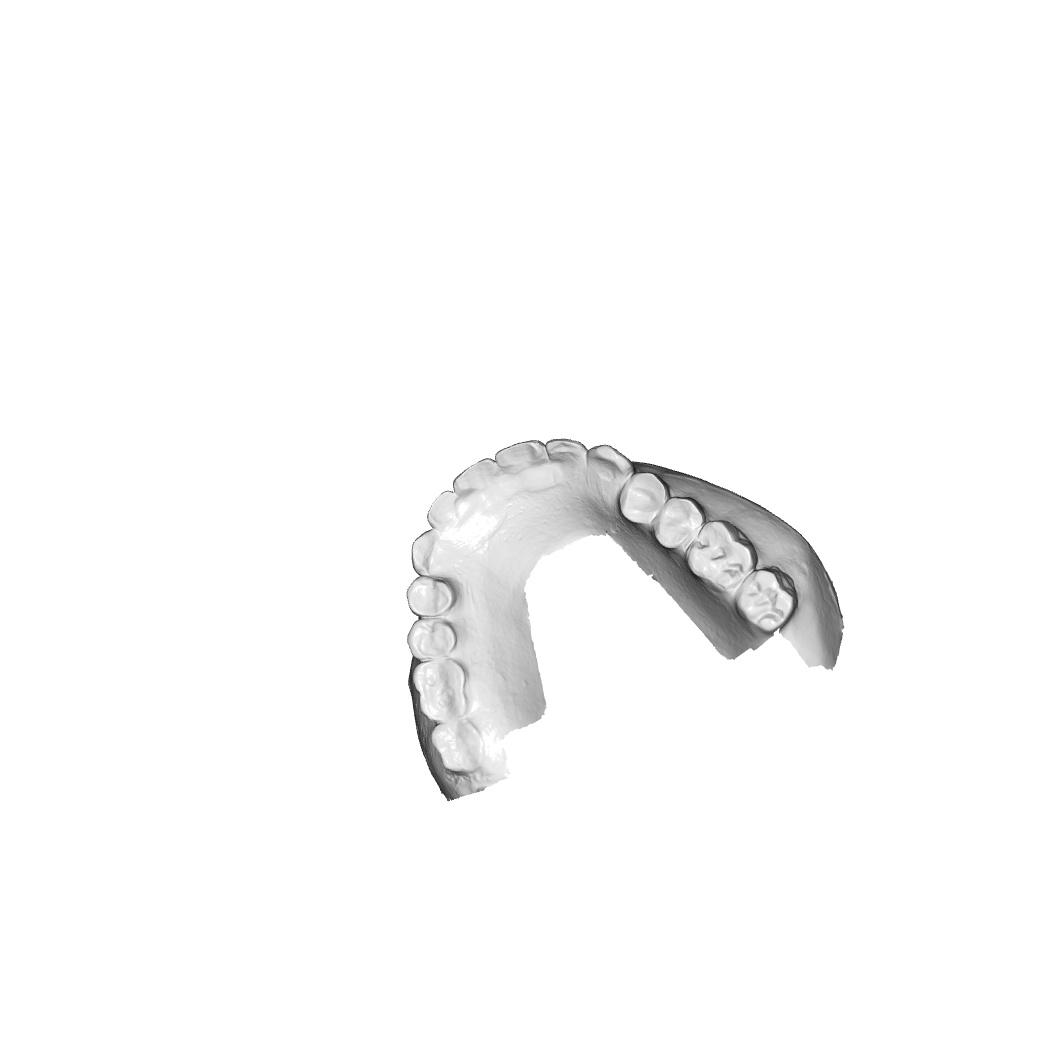canine: (411, 528, 464, 577), (587, 443, 636, 489)
incisor: (545, 438, 589, 496), (452, 457, 498, 508), (495, 438, 546, 483), (425, 490, 465, 530)
molar: (686, 520, 758, 593), (735, 566, 798, 635), (412, 658, 471, 723), (431, 722, 485, 774)
premolar: (653, 496, 707, 550), (618, 471, 670, 526), (407, 617, 458, 662), (405, 576, 457, 617)
